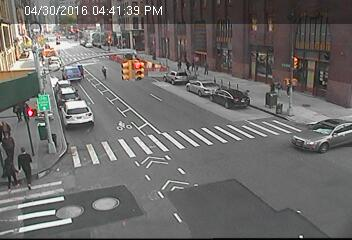neg: (15, 36, 24, 48), (225, 53, 232, 63)
pos: (10, 143, 37, 180), (96, 63, 111, 83), (17, 102, 30, 120), (10, 104, 22, 120), (201, 61, 213, 77)
